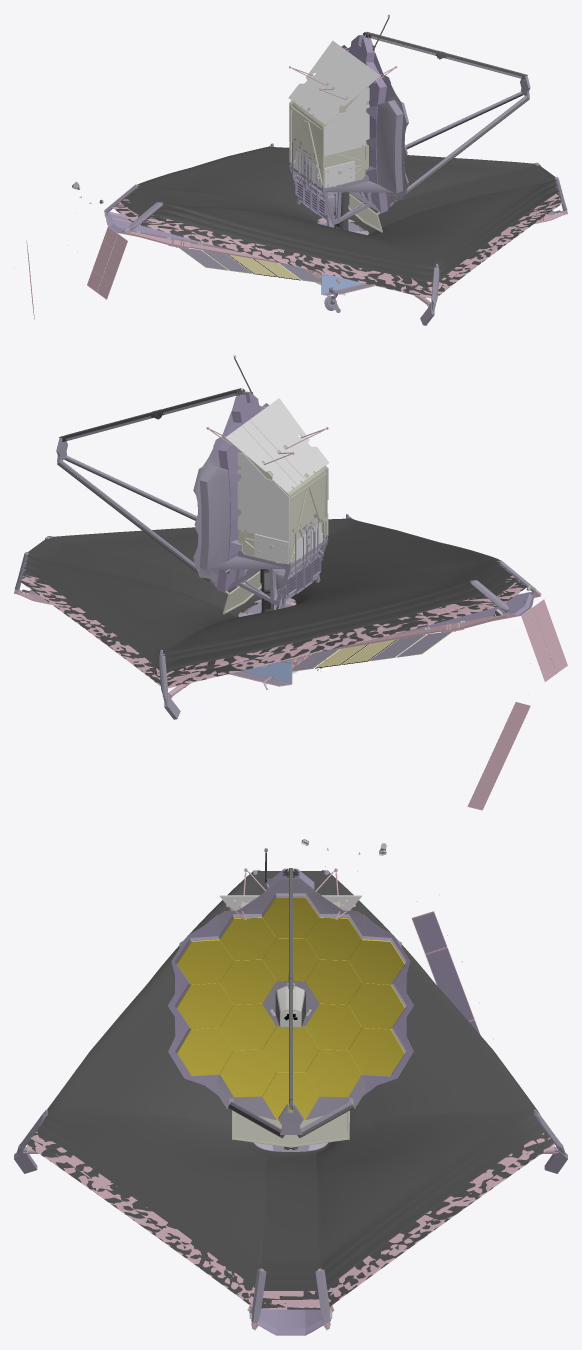
The model's file is jwst.glb.
3 views of the same model, one above another, from view 1: azimuth 30°, elevation 25°; view 2: azimuth 150°, elevation 25°; view 3: azimuth 270°, elevation 25° (orthographic). The views are drawn at different scales.
Parts seen in each view (by area): view 1: James_Webb_Space_Telescope:poly_p2_l1, James_Webb_Space_Telescope:batwing1, James_Webb_Space_Telescope:a4bar_posthing2, James_Webb_Space_Telescope:low_rads, James_Webb_Space_Telescope:midstr_t_wrap, James_Webb_Space_Telescope:basecylinder2, James_Webb_Space_Telescope:stray_h1_brace1, James_Webb_Space_Telescope:bus_rad1_pan, James_Webb_Space_Telescope:sc_ring_gold, James_Webb_Space_Telescope:bus_body, James_Webb_Space_Telescope:battery_ssm, James_Webb_Space_Telescope:asm_covrcleats_hr_car_v001:aftsd. (+1 smaller); view 2: James_Webb_Space_Telescope:poly_p2_l1, James_Webb_Space_Telescope:batwing1, James_Webb_Space_Telescope:a4bar_posthing2, James_Webb_Space_Telescope:low_rads, James_Webb_Space_Telescope:midstr_t_wrap, James_Webb_Space_Telescope:basecylinder2, James_Webb_Space_Telescope:stray_h1_brace1, James_Webb_Space_Telescope:bus_rad1_pan, James_Webb_Space_Telescope:sc_ring_gold, James_Webb_Space_Telescope:battery_ssm, James_Webb_Space_Telescope:bus_body; view 3: James_Webb_Space_Telescope:poly_p2_l1, James_Webb_Space_Telescope:mirror10, James_Webb_Space_Telescope:batwing1, James_Webb_Space_Telescope:a4bar_posthing2, James_Webb_Space_Telescope:stray_h1_brace1, James_Webb_Space_Telescope:basecylinder2, James_Webb_Space_Telescope:bus_body, James_Webb_Space_Telescope:bafl_main, James_Webb_Space_Telescope:low_rads.
Boxes of the visible parts, x1,y1,x2,y2 form: James_Webb_Space_Telescope:poly_p2_l1: (116,146,561,297); James_Webb_Space_Telescope:batwing1: (104,35,567,311); James_Webb_Space_Telescope:a4bar_posthing2: (26,48,567,319); James_Webb_Space_Telescope:low_rads: (288,40,380,188); James_Webb_Space_Telescope:midstr_t_wrap: (292,83,365,187); James_Webb_Space_Telescope:basecylinder2: (334,33,529,230); James_Webb_Space_Telescope:stray_h1_brace1: (290,86,382,232); James_Webb_Space_Telescope:bus_rad1_pan: (180,221,373,312); James_Webb_Space_Telescope:sc_ring_gold: (179,248,320,282); James_Webb_Space_Telescope:bus_body: (308,221,434,325); James_Webb_Space_Telescope:battery_ssm: (322,273,362,293); James_Webb_Space_Telescope:asm_covrcleats_hr_car_v001:aftsd.: (230,146,323,251); James_Webb_Space_Telescope:poly_p2_l1: (20,518,527,686); James_Webb_Space_Telescope:batwing1: (14,391,535,703); James_Webb_Space_Telescope:a4bar_posthing2: (14,406,567,810); James_Webb_Space_Telescope:low_rads: (225,398,329,564); James_Webb_Space_Telescope:midstr_t_wrap: (242,445,325,563); James_Webb_Space_Telescope:basecylinder2: (57,389,279,612); James_Webb_Space_Telescope:stray_h1_brace1: (222,449,327,614); James_Webb_Space_Telescope:bus_rad1_pan: (230,602,450,685); James_Webb_Space_Telescope:sc_ring_gold: (292,631,452,671); James_Webb_Space_Telescope:battery_ssm: (241,659,291,683); James_Webb_Space_Telescope:bus_body: (164,602,310,719); James_Webb_Space_Telescope:poly_p2_l1: (27,871,553,1309); James_Webb_Space_Telescope:mirror10: (176,897,404,1120); James_Webb_Space_Telescope:batwing1: (16,868,565,1335); James_Webb_Space_Telescope:a4bar_posthing2: (23,868,558,1335); James_Webb_Space_Telescope:stray_h1_brace1: (232,899,349,1147); James_Webb_Space_Telescope:basecylinder2: (228,875,353,1148); James_Webb_Space_Telescope:bus_body: (14,1143,567,1173); James_Webb_Space_Telescope:bafl_main: (270,981,311,1026); James_Webb_Space_Telescope:low_rads: (219,895,361,910).
Bounding box in the file's own units: 22.24 × 12.46 × 14.77.
